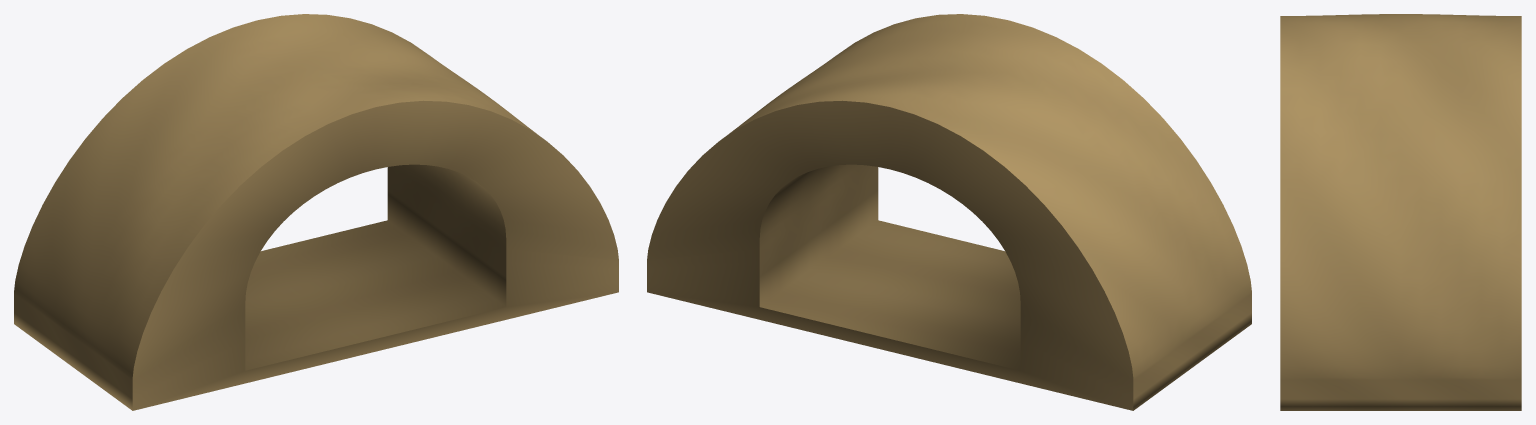
Rendered from straight_12m_terrain.glb.
3 views of the same model, side by side, from view 1: azimuth 30°, elevation 25°; view 2: azimuth 150°, elevation 25°; view 3: azimuth 270°, elevation 25° (orthographic).
Visible parts, largest first — view 1: TerrainRoof.004; view 2: TerrainRoof.004; view 3: TerrainRoof.004.
Part boxes in pixels (left/top/right/bottom): TerrainRoof.004: left=14, top=14, right=618, bottom=410; TerrainRoof.004: left=647, top=14, right=1251, bottom=410; TerrainRoof.004: left=1280, top=14, right=1521, bottom=410.
Bounding box in the file's own units: 28.4 × 13.65 × 12.
